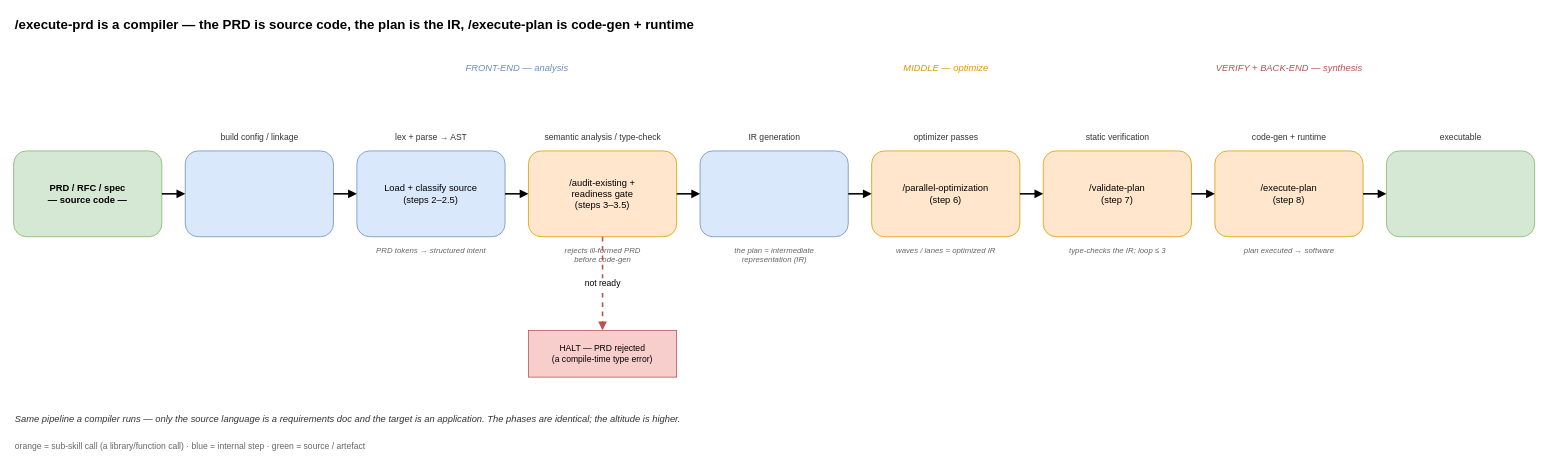
This 1548x465 diagram has some shape labels left out. The shapes that lost their labels are listed below. From the top down, each one's centre as x and y in pixels, then its label:
point 258,193: Load CLAUDE.md ## Commands (step 1)
point 773,193: Extract non-negotiables + draft plan (steps 4–5)
point 1460,193: Built application — working software —
